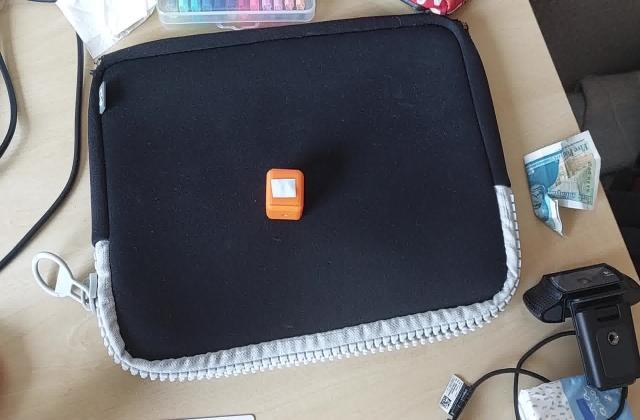sticker: (265, 168, 306, 223)
white: (268, 176, 299, 200)
